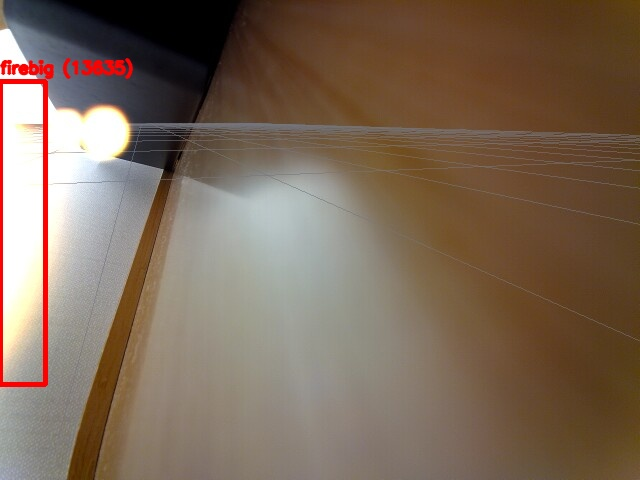firebig: (0, 81, 45, 384)
